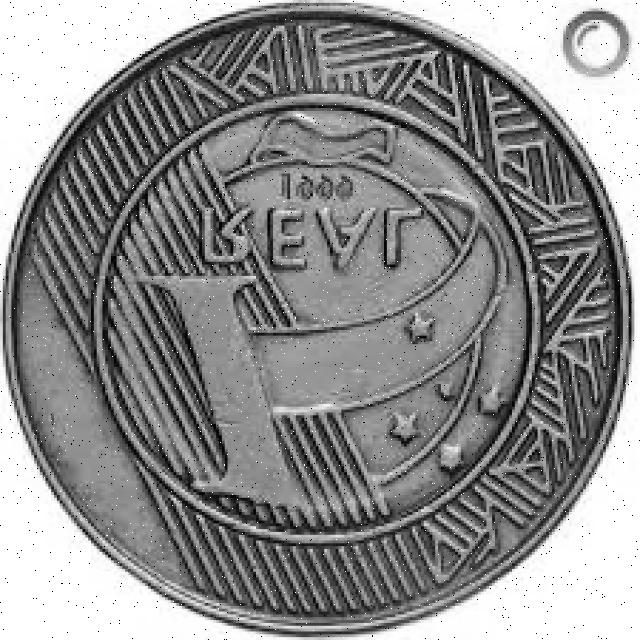1 real: (15, 18, 622, 636)
